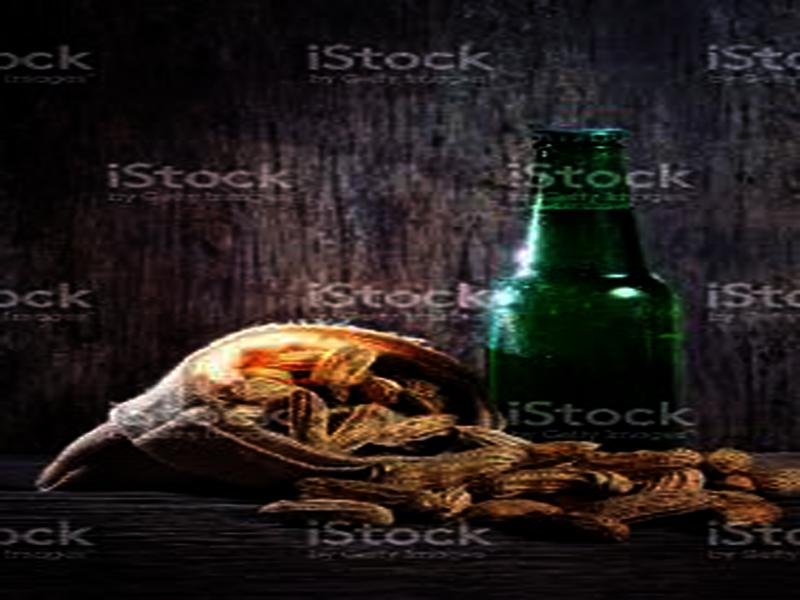Beer: (481, 124, 678, 473)
